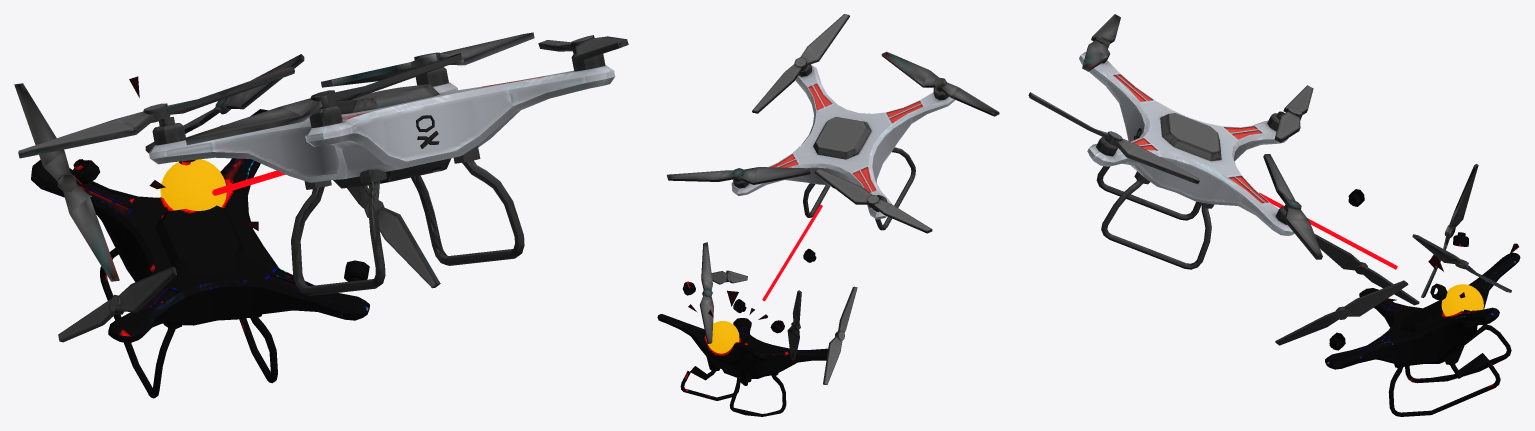
File: drone.glb
3 renders of one model, left to right at view 1: azimuth 30°, elevation 25°; view 2: azimuth 150°, elevation 25°; view 3: azimuth 270°, elevation 25°, orthographic. The views are drawn at different scales.
Parts seen in each view (by area): view 1: MainBody, MainBody.001, Wing2.001, Wing2, Wing4, Sphere, Wing3.001, Wing1, Wing4.001, Wing1.001, Wing3; view 2: MainBody, MainBody.001, Wing3, Wing1, Wing2, Wing4, Wing1.001, Wing3.001, Sphere, Wing2.001, Cylinder, Wing4.001; view 3: MainBody, MainBody.001, Wing3, Wing4.001, Wing1, Wing3.001, Wing2, Wing4, Sphere, Wing2.001, Wing1.001, Cylinder.
Boxes of the visible parts, x1,y1,x2,y2 form: MainBody: [149, 53, 615, 295]; MainBody.001: [31, 109, 369, 398]; Wing2.001: [14, 83, 119, 281]; Wing2: [185, 52, 462, 145]; Wing4: [18, 66, 294, 158]; Sphere: [160, 159, 226, 210]; Wing3.001: [58, 267, 176, 342]; Wing1: [321, 32, 534, 87]; Wing4.001: [347, 185, 440, 288]; Wing1.001: [145, 54, 304, 153]; Wing3: [538, 35, 628, 61]; MainBody: [731, 64, 955, 230]; MainBody.001: [657, 314, 827, 416]; Wing3: [752, 14, 849, 113]; Wing1: [667, 167, 810, 184]; Wing2: [881, 51, 999, 116]; Wing4: [814, 168, 932, 233]; Wing1.001: [700, 242, 713, 343]; Wing3.001: [823, 286, 857, 384]; Sphere: [708, 321, 739, 353]; Wing2.001: [787, 290, 801, 360]; Cylinder: [762, 204, 822, 301]; Wing4.001: [711, 270, 747, 284]; MainBody: [1079, 50, 1294, 269]; MainBody.001: [1325, 252, 1520, 416]; Wing3: [1028, 92, 1199, 184]; Wing4.001: [1275, 280, 1408, 345]; Wing1: [1263, 154, 1322, 259]; Wing3.001: [1314, 233, 1419, 305]; Wing2: [1082, 14, 1120, 71]; Wing4: [1274, 85, 1313, 142]; Sphere: [1441, 284, 1483, 316]; Wing2.001: [1421, 164, 1478, 297]; Wing1.001: [1412, 234, 1511, 292]; Cylinder: [1259, 192, 1397, 269].
Bounding box in the file's own units: 15.18 × 14.89 × 19.36.
Materials: 7 (2 with a texture image).
